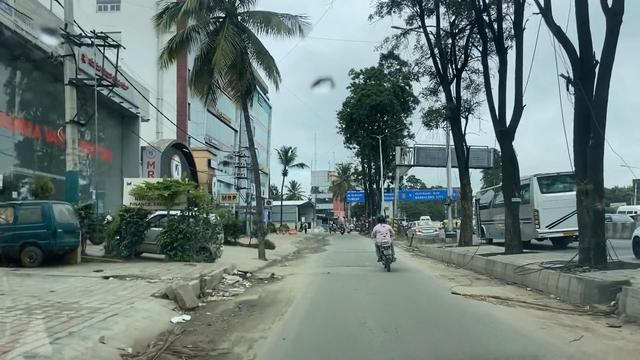LMV: (370, 216, 398, 271)
RoadDamages: (450, 279, 608, 327), (213, 298, 291, 337)
